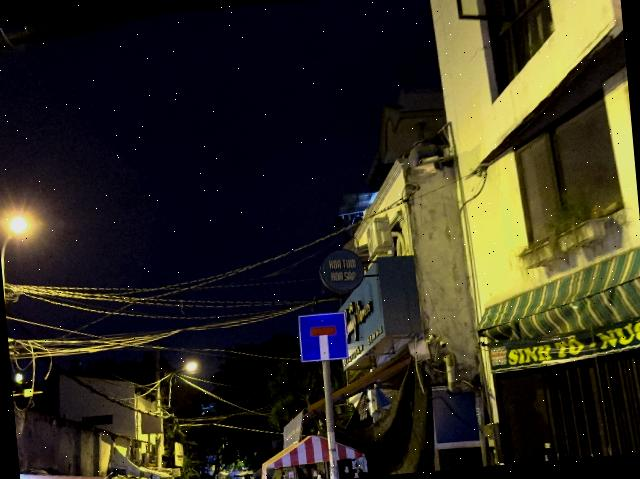duong-cut: (296, 311, 348, 363)
